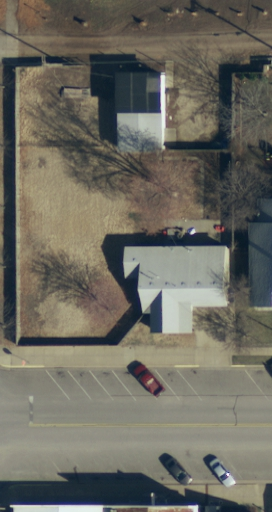DT: (35, 54, 57, 72)
